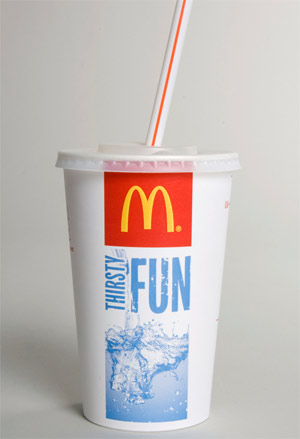mcdonalds: (116, 183, 178, 239)
